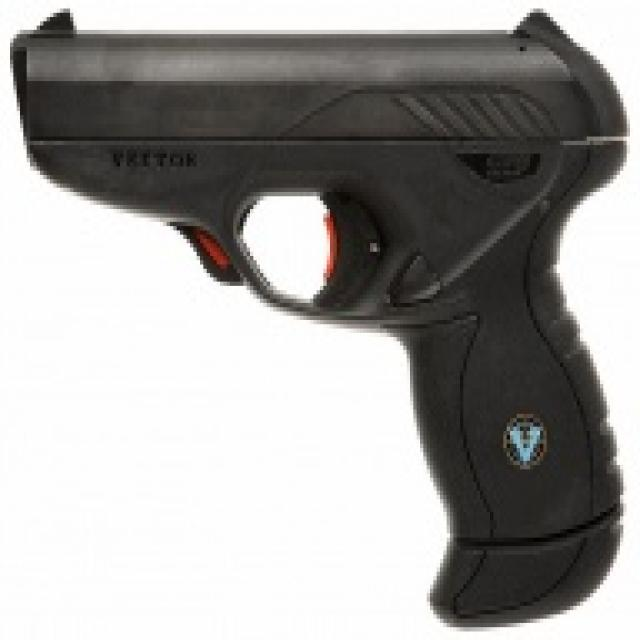pistol: (1, 1, 631, 637)
